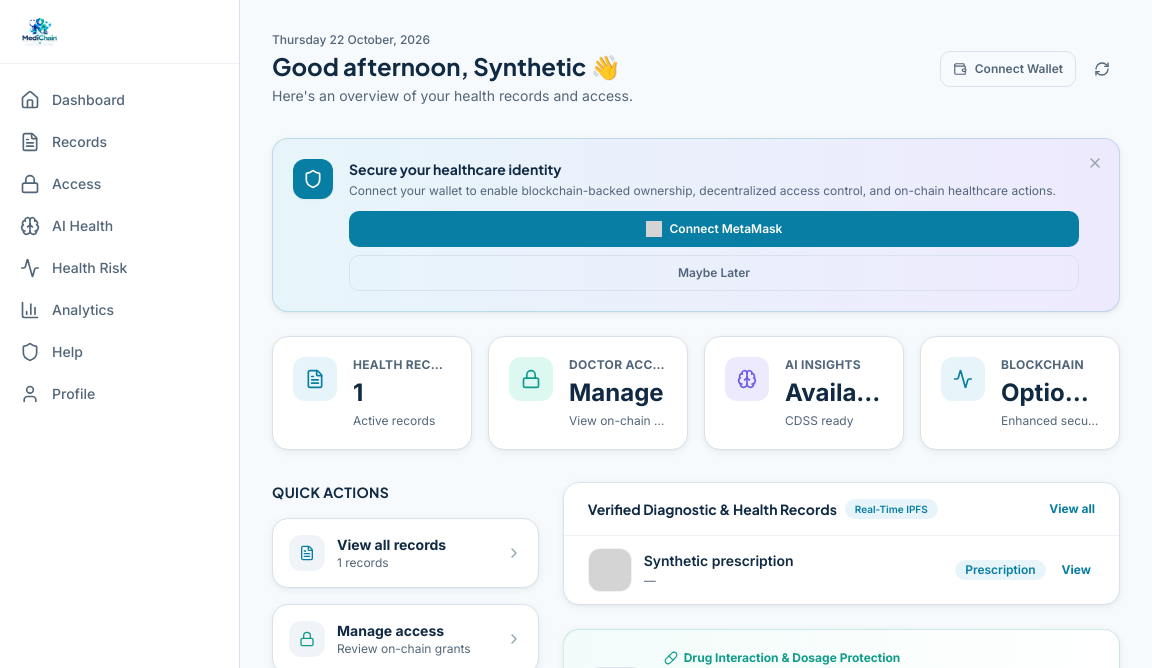
shows an error and closes the preview if a record cannot be opened
The image size is (1152, 668).
Click the button "View" at (1076, 570), box [1058,558,1095,582]
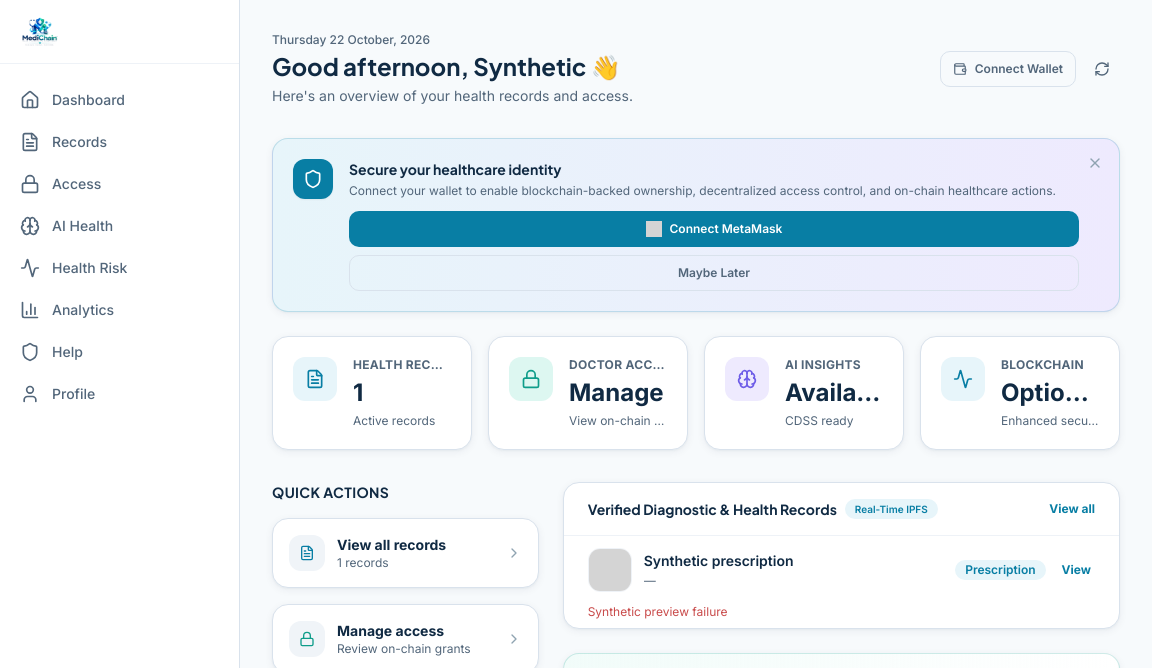
Expected: the message reads "Synthetic preview failure", [588,604,728,619]
